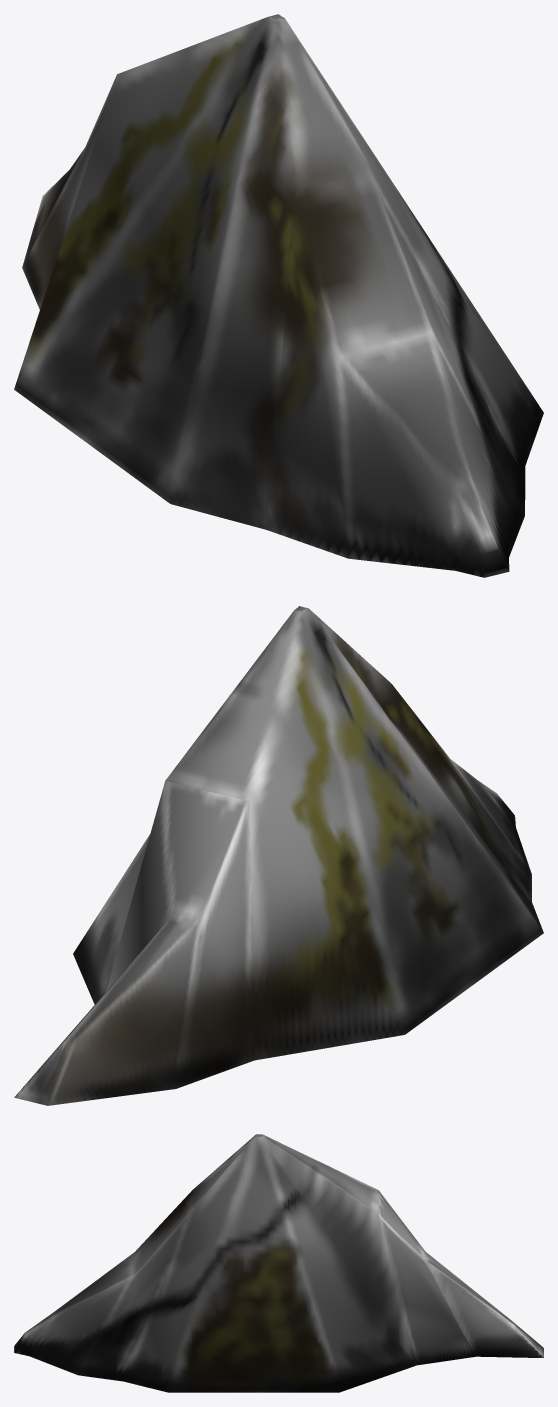
The model's file is SM_Rock_03.fbx.
The picture shows the model from 3 angles, top to bottom: view 1: azimuth 30°, elevation 25°; view 2: azimuth 150°, elevation 25°; view 3: azimuth 270°, elevation 25°; orthographic projection. The views are drawn at different scales.
Visible parts, largest first — view 1: Roca 2; view 2: Roca 2; view 3: Roca 2.
Part boxes in pixels (<box>): Roca 2: <box>14,14,543,577</box>; Roca 2: <box>14,606,543,1105</box>; Roca 2: <box>14,1134,543,1392</box>.
Bounding box in the file's own units: 3.24 × 3.29 × 7.27.
Materials: 1 (1 with a texture image).
